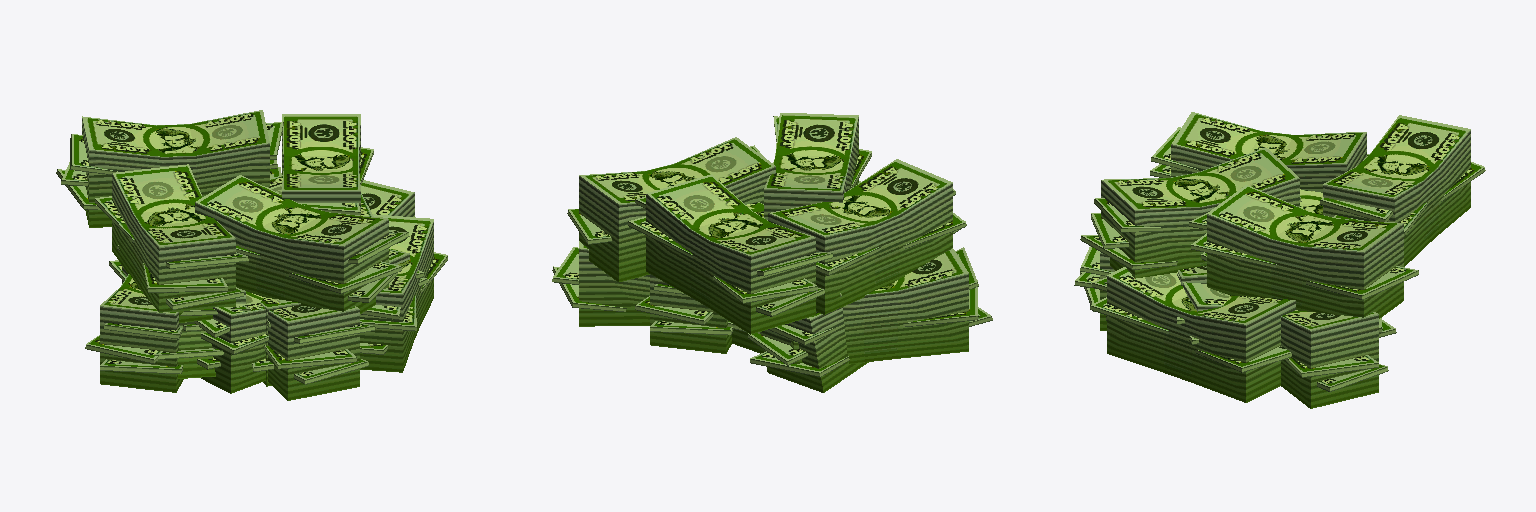
3 renders of one model, left to right at view 1: azimuth 30°, elevation 25°; view 2: azimuth 150°, elevation 25°; view 3: azimuth 270°, elevation 25°, orthographic.
Visible parts, largest first — view 1: cash_3.gr2, cash_2.gr2; view 2: cash_3.gr2, cash_2.gr2; view 3: cash_3.gr2, cash_2.gr2.
Boxes of the visible parts, box(x1,y1,x2,y2) form: cash_3.gr2: box(56, 110, 447, 400); cash_2.gr2: box(109, 175, 427, 386); cash_3.gr2: box(552, 113, 992, 363); cash_2.gr2: box(635, 202, 868, 392); cash_3.gr2: box(1074, 112, 1485, 408); cash_2.gr2: box(1177, 189, 1396, 344).
Size of the model in its own units: 1.15 by 0.5096 by 1.07.
1 materials, 1 textured.